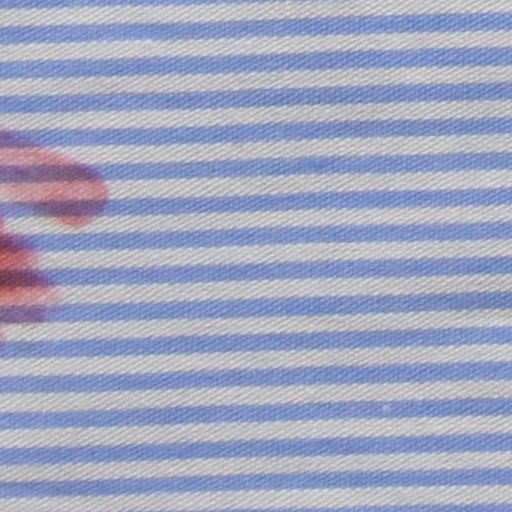defect: (1, 130, 109, 313)
